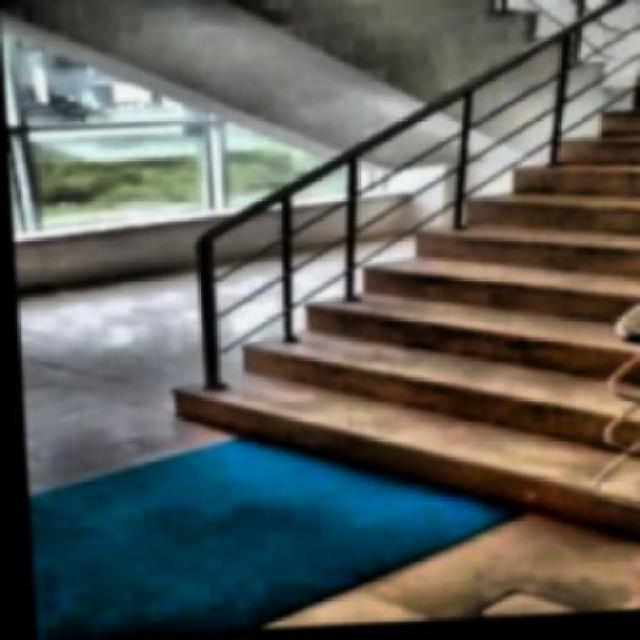stair: (110, 40, 638, 569)
